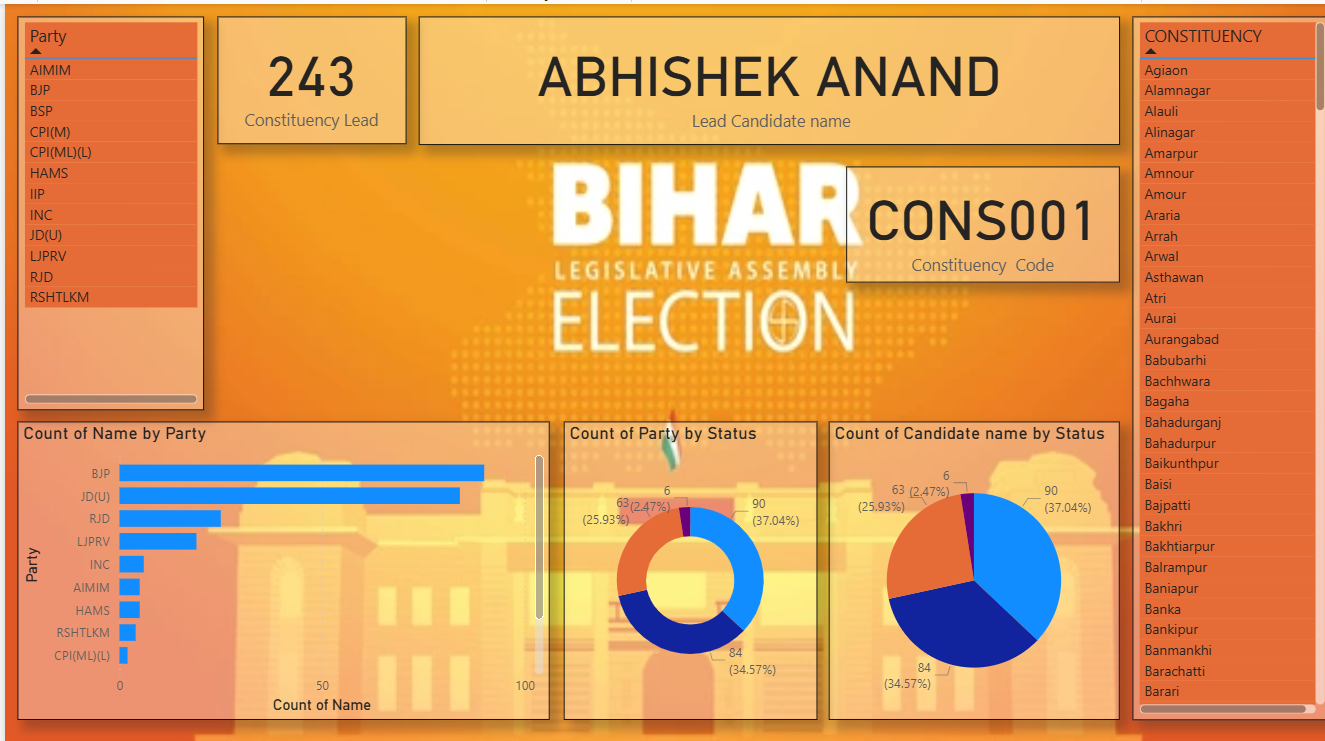

What the dashboard file says about the page in this screenshot:
{"tool":"powerbi","page":{"name":"Page 1","canvas":[1280,720],"ordinal":0},"visuals":[{"type":"clusteredBarChart","fields":{"Category":["Invoked Function.Party"],"Y":["Invoked Function.Name"]},"box":[12.1,403,513.9,288.3],"z":0},{"type":"pieChart","fields":{"Category":["Invoked Function.Status"],"Y":["Invoked Function.Candidate name"]},"box":[795,403,281.1,288.3],"z":1000},{"type":"donutChart","fields":{"Category":["Invoked Function.Status"],"Y":["Invoked Function.Party"]},"box":[539.3,403,244.9,288.3],"z":2000},{"type":"card","fields":{"Values":["Invoked Function.Candidate name"]},"box":[399.3,12.1,676.8,124.3],"z":3000},{"type":"tableEx","fields":{"Values":["Sheet1.CONSTITUENCY"]},"box":[1088.2,12.1,191.8,679.2],"z":4000},{"type":"card","fields":{"Values":["Sheet1.ConsultancyCode"]},"box":[811.9,156.8,264.2,112.2],"z":5000},{"type":"card","fields":{"Values":["Invoked Function.Status"]},"box":[205.1,12.1,182.2,123.1],"z":6000},{"type":"tableEx","fields":{"Values":["Invoked Function.Party"]},"box":[12.1,12.1,179.8,380],"z":7000},{"type":"image","box":[63.9,146,505.5,257],"z":7001}]}

Visuals, with their boxes in screenshot pixels (x1, y1, x2, y2), scaled from the page's 1280x720 canvas onto the 1325x741 screenshot:
clusteredBarChart - Invoked Function.Party x Invoked Function.Name: <box>13,415,544,711</box>
pieChart - Invoked Function.Status x Invoked Function.Candidate name: <box>823,415,1114,711</box>
donutChart - Invoked Function.Status x Invoked Function.Party: <box>558,415,812,711</box>
card - Invoked Function.Candidate name: <box>413,12,1114,140</box>
tableEx - Sheet1.CONSTITUENCY: <box>1126,12,1324,711</box>
card - Sheet1.ConsultancyCode: <box>840,161,1114,277</box>
card - Invoked Function.Status: <box>212,12,401,139</box>
tableEx - Invoked Function.Party: <box>13,12,199,404</box>
image: <box>66,150,589,415</box>
